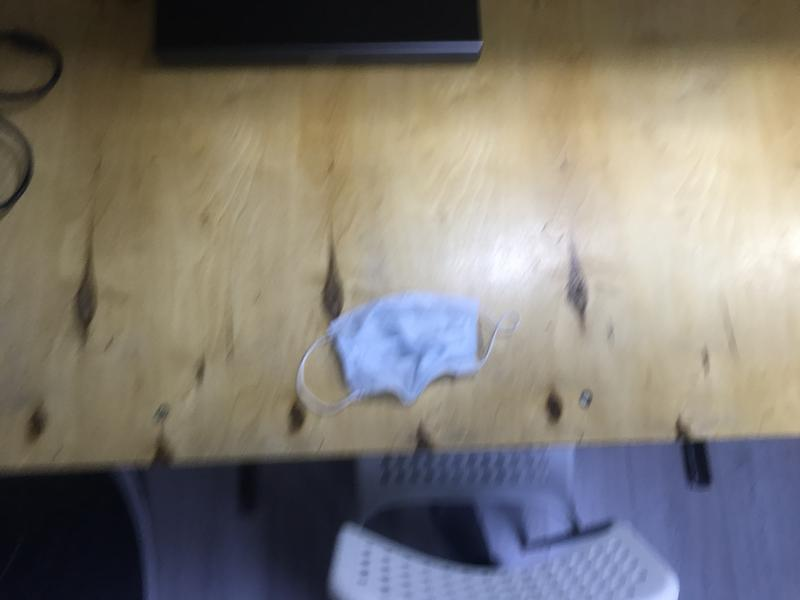medical_mask: (299, 292, 521, 411)
